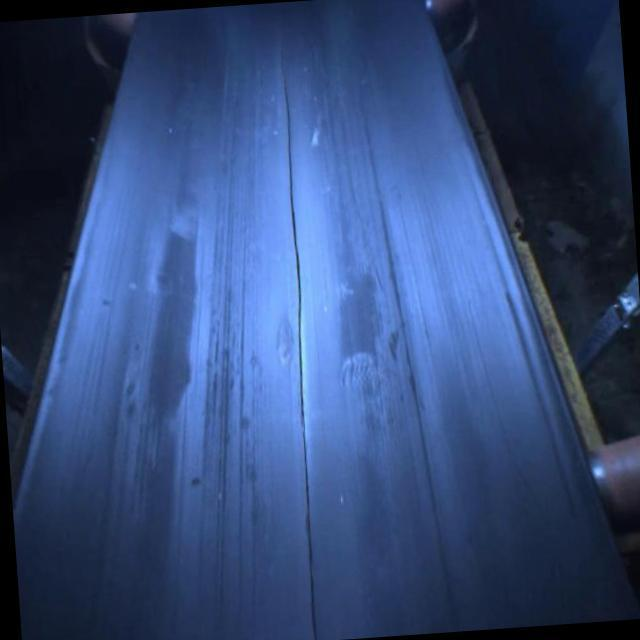Tear: (276, 46, 324, 640)
